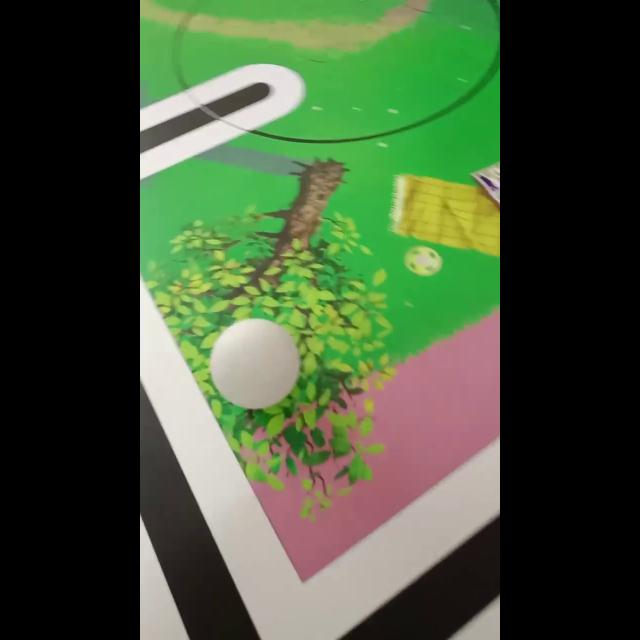white ball: (208, 318, 300, 410)
